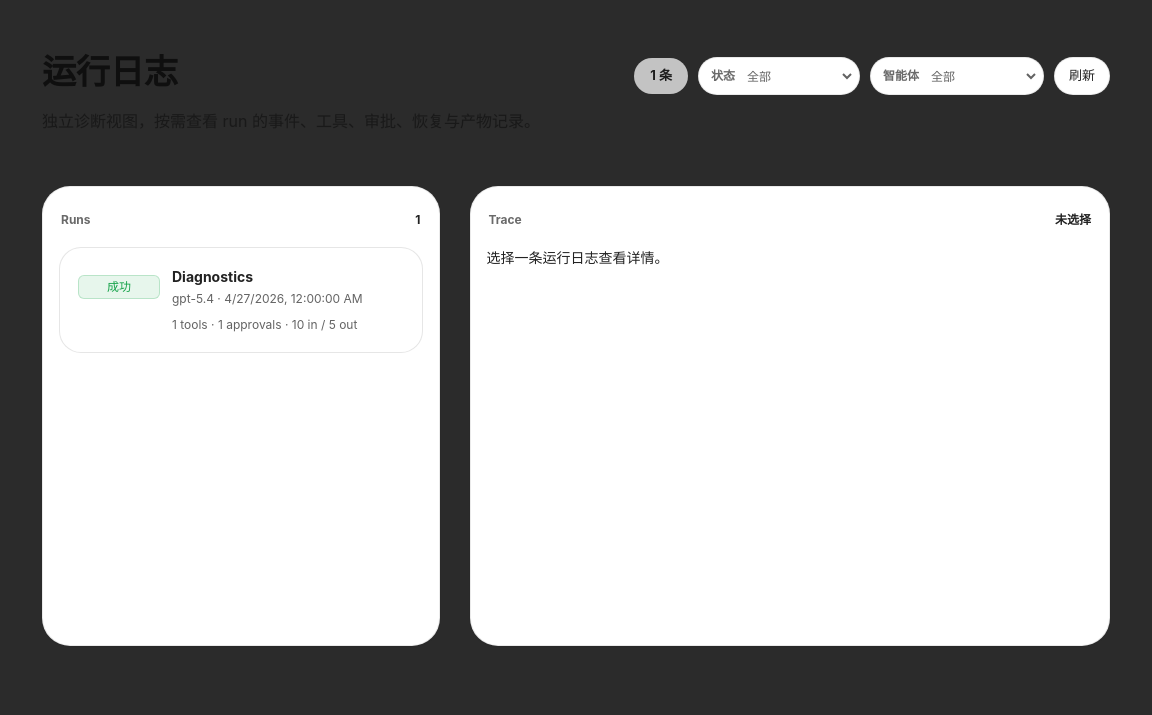
RunLogsPage › loads summaries without loading trace details until a row is opened
Expected: the text "Diagnostics" is shown, left=172, top=268, right=253, bottom=285
Click the button "Diagnostics" at coordinates (241, 300), box left=59, top=247, right=422, bottom=353
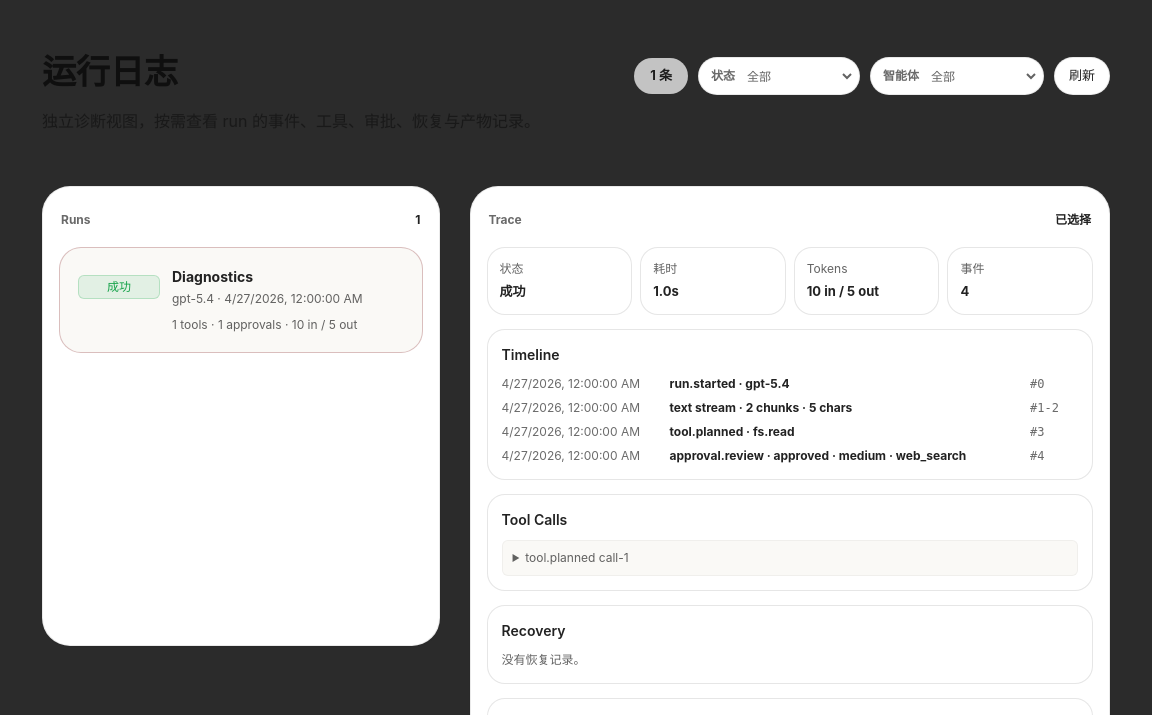
Now the heading "Timeline" is shown, box left=502, top=346, right=560, bottom=362
Now the text "tool.planned · fs.read" is shown, box left=670, top=424, right=795, bottom=438
